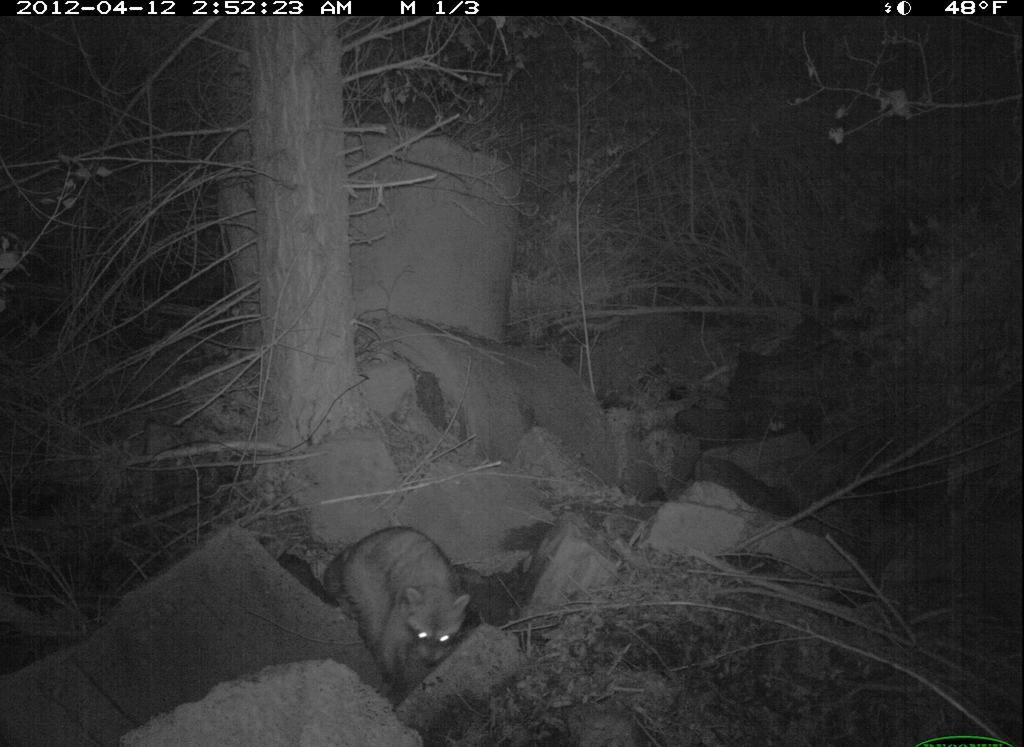raccoon: (318, 520, 474, 676)
